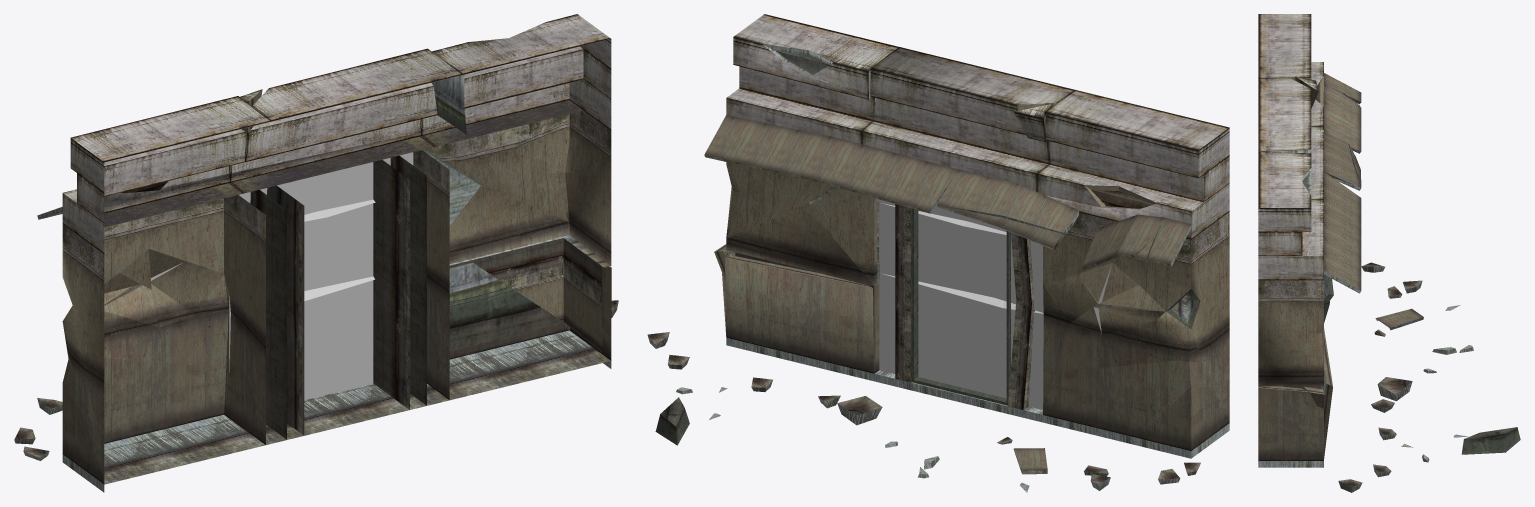
Rendered from Store_front_14_A1.fbx.
3 renders of one model, left to right at view 1: azimuth 30°, elevation 25°; view 2: azimuth 150°, elevation 25°; view 3: azimuth 270°, elevation 25°, orthographic. The views are drawn at different scales.
Parts seen in each view (by area): view 1: Store_front_14_A1; view 2: Store_front_14_A1; view 3: Store_front_14_A1.
Part boxes in pixels (x1,y1,x2,y2): Store_front_14_A1: (14,14,618,492); Store_front_14_A1: (647,14,1229,492); Store_front_14_A1: (1258,14,1520,492).
Size of the model in its own units: 824 by 440 by 400.
